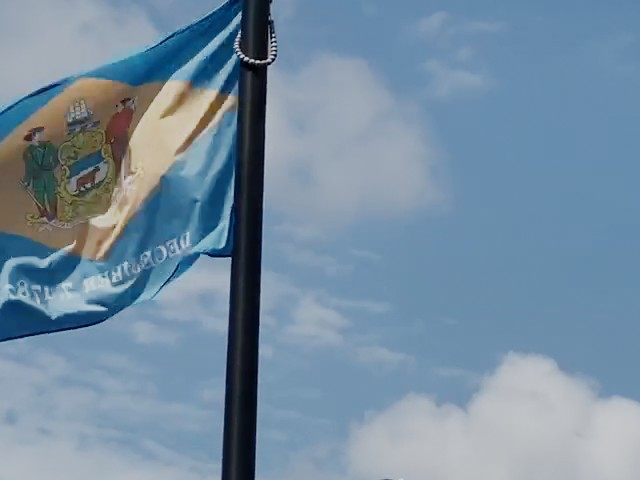Delaware flag: (1, 1, 251, 344)
